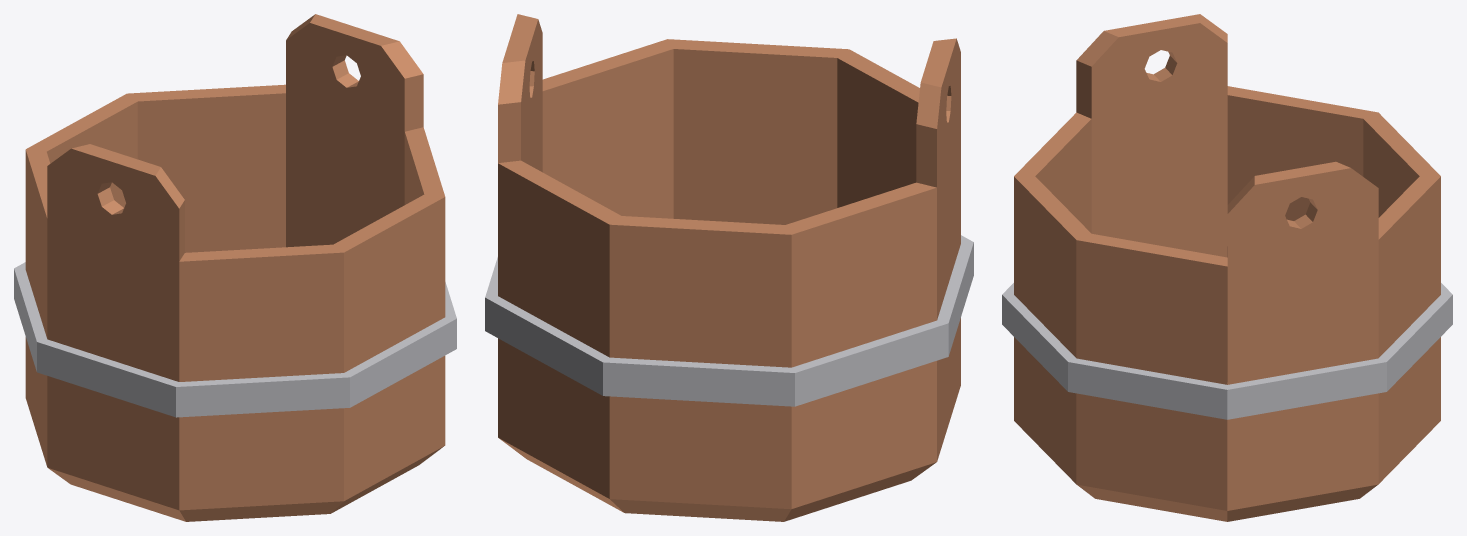
Rendered from bucket.fbx.
The picture shows the model from 3 angles, left to right: view 1: azimuth 30°, elevation 25°; view 2: azimuth 150°, elevation 25°; view 3: azimuth 270°, elevation 25°; orthographic projection. The views are drawn at different scales.
Parts seen in each view (by area): view 1: Cylinder; view 2: Cylinder; view 3: Cylinder.
Part boxes in pixels (x1,y1,x2,y2): Cylinder: (14,14,456,521); Cylinder: (485,14,973,521); Cylinder: (1002,14,1452,521).
Size of the model in its own units: 50.93 by 42.81 by 50.93.
